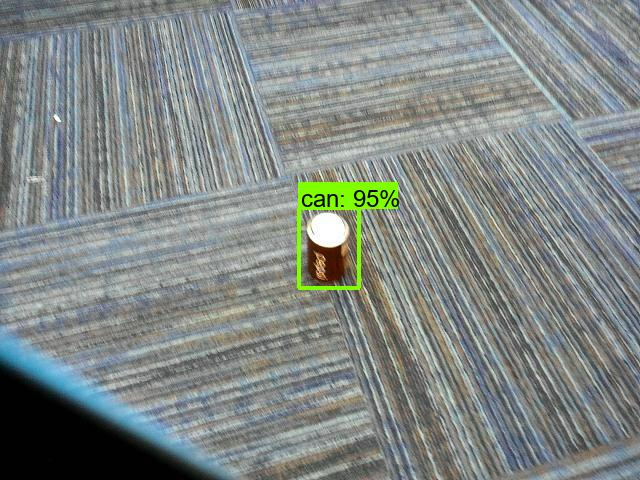can: (299, 211, 362, 293)
